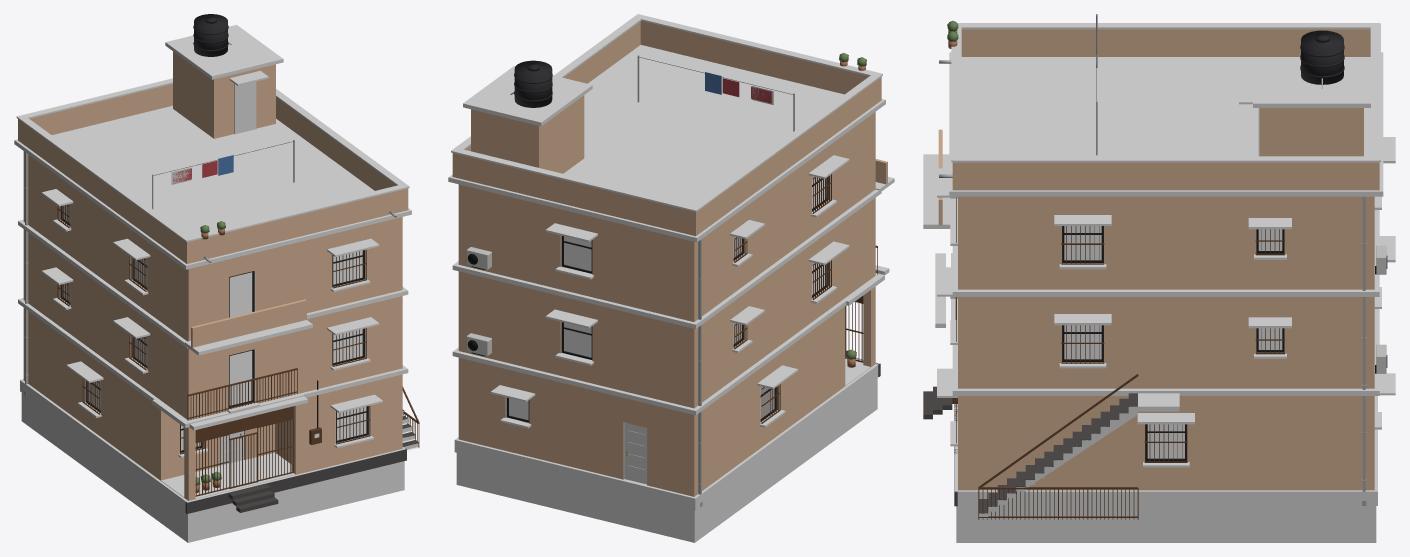
File: tn_house_9x12_3.glb
3 views of the same model, side by side, from view 1: azimuth 30°, elevation 25°; view 2: azimuth 150°, elevation 25°; view 3: azimuth 270°, elevation 25° (orthographic). The views are drawn at different scales.
Visible parts, largest first — view 1: tn_house_9x12_3; view 2: tn_house_9x12_3; view 3: tn_house_9x12_3.
Part boxes in pixels (left/top/right/bottom): tn_house_9x12_3: left=14, top=14, right=419, bottom=542; tn_house_9x12_3: left=448, top=14, right=894, bottom=542; tn_house_9x12_3: left=923, top=14, right=1395, bottom=542.
Size of the model in its own units: 10.67 by 15.15 by 13.61.
